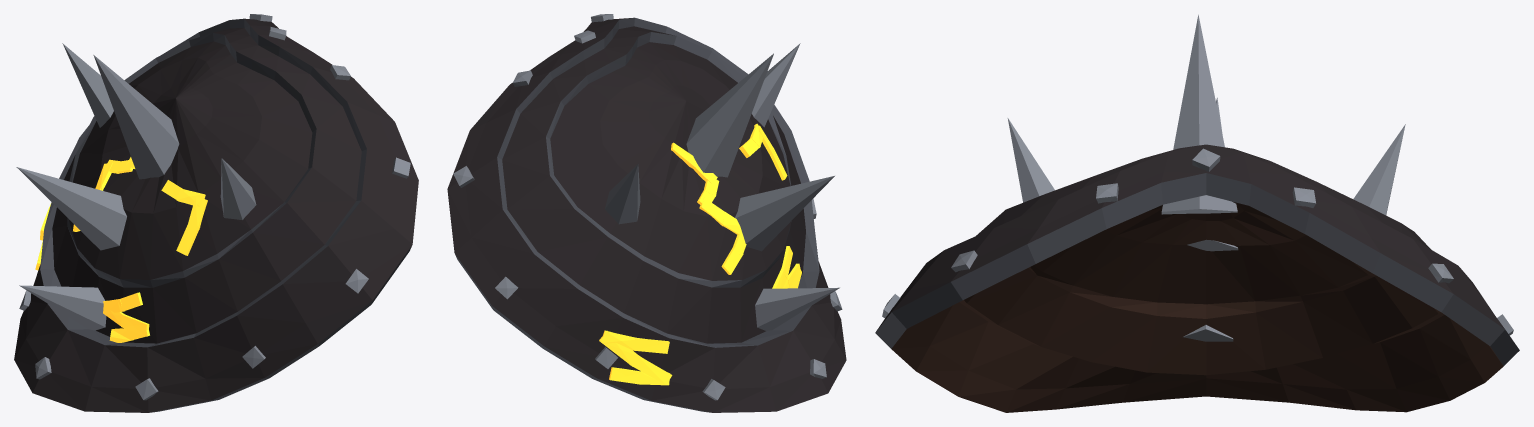
Rendered from A2S_BerserkerPauldron.fbx.
The picture shows the model from 3 angles, left to right: view 1: azimuth 30°, elevation 25°; view 2: azimuth 150°, elevation 25°; view 3: azimuth 270°, elevation 25°; orthographic projection. The views are drawn at different scales.
Parts seen in each view (by area): view 1: A2S_BerserkerPauldron; view 2: A2S_BerserkerPauldron; view 3: A2S_BerserkerPauldron.
Boxes of the visible parts, x1=… form: A2S_BerserkerPauldron: x1=14, y1=14, x2=418, y2=412; A2S_BerserkerPauldron: x1=447, y1=14, x2=846, y2=412; A2S_BerserkerPauldron: x1=875, y1=14, x2=1519, y2=412.
Bounding box in the file's own units: 24.69 × 25.59 × 36.68.
